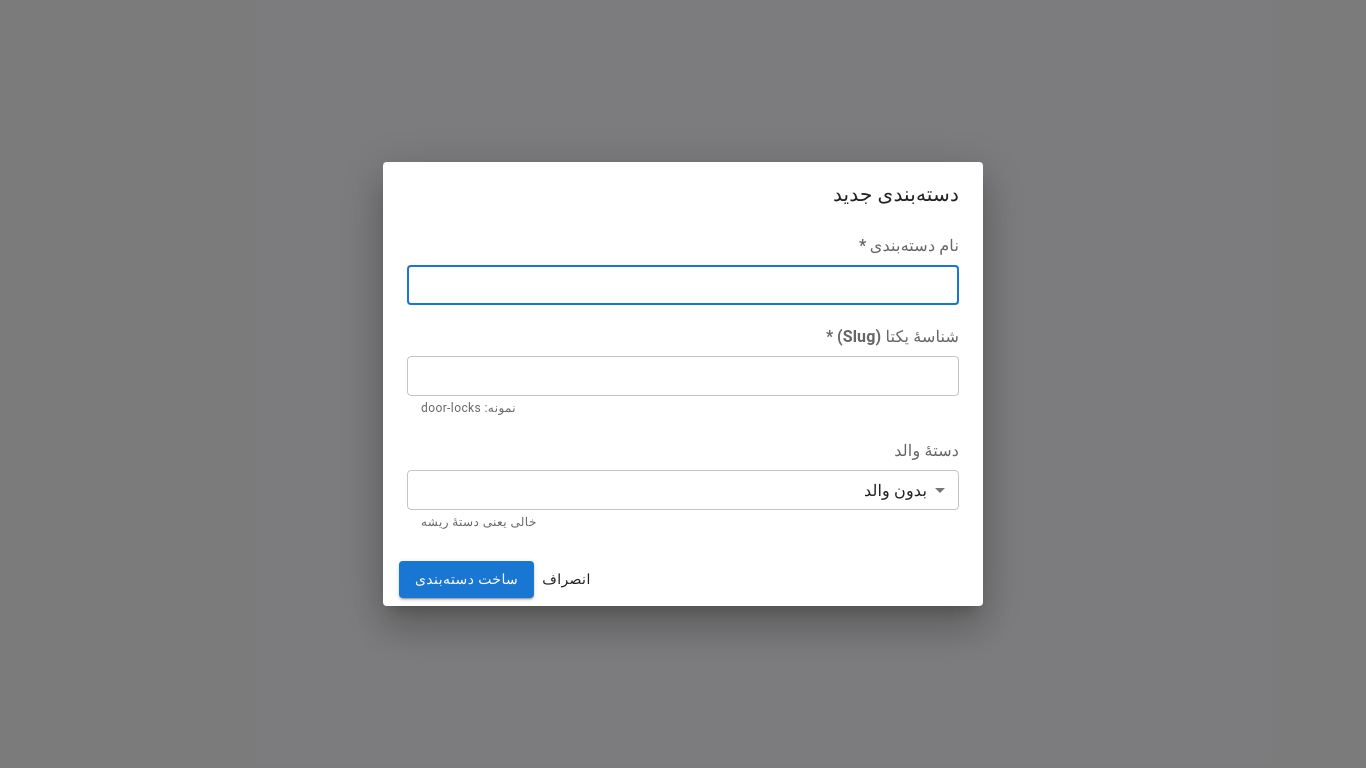
Test case: CategoryDialog › validates required fields and shows API errors
Click the button "ساخت دسته‌بندی" at [467, 579], box [399,561,534,598]
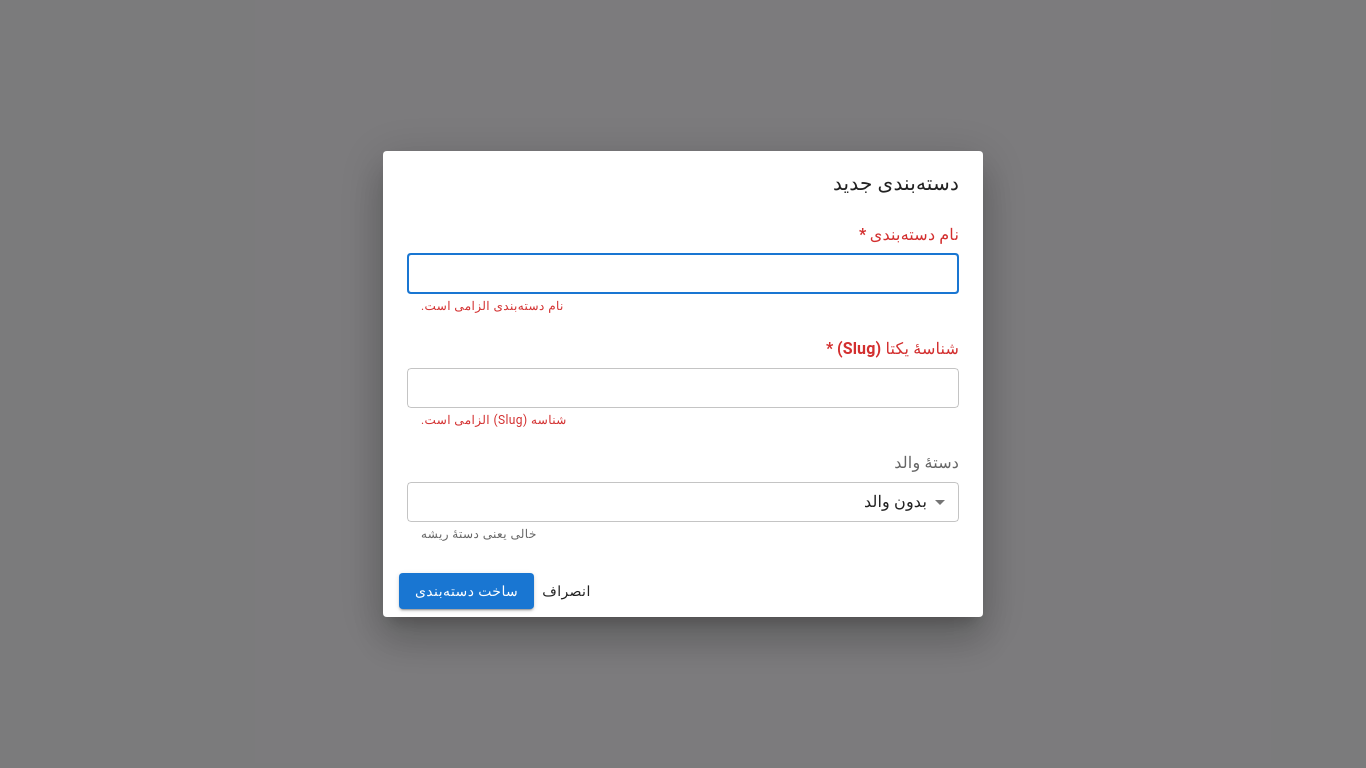
Expected: the text "نام دسته‌بندی الزامی است." is shown, [421,299,564,313]
Type "درب" into the field labelled "نام دسته‌بندی *" at [683, 274], box [407,254,959,294]
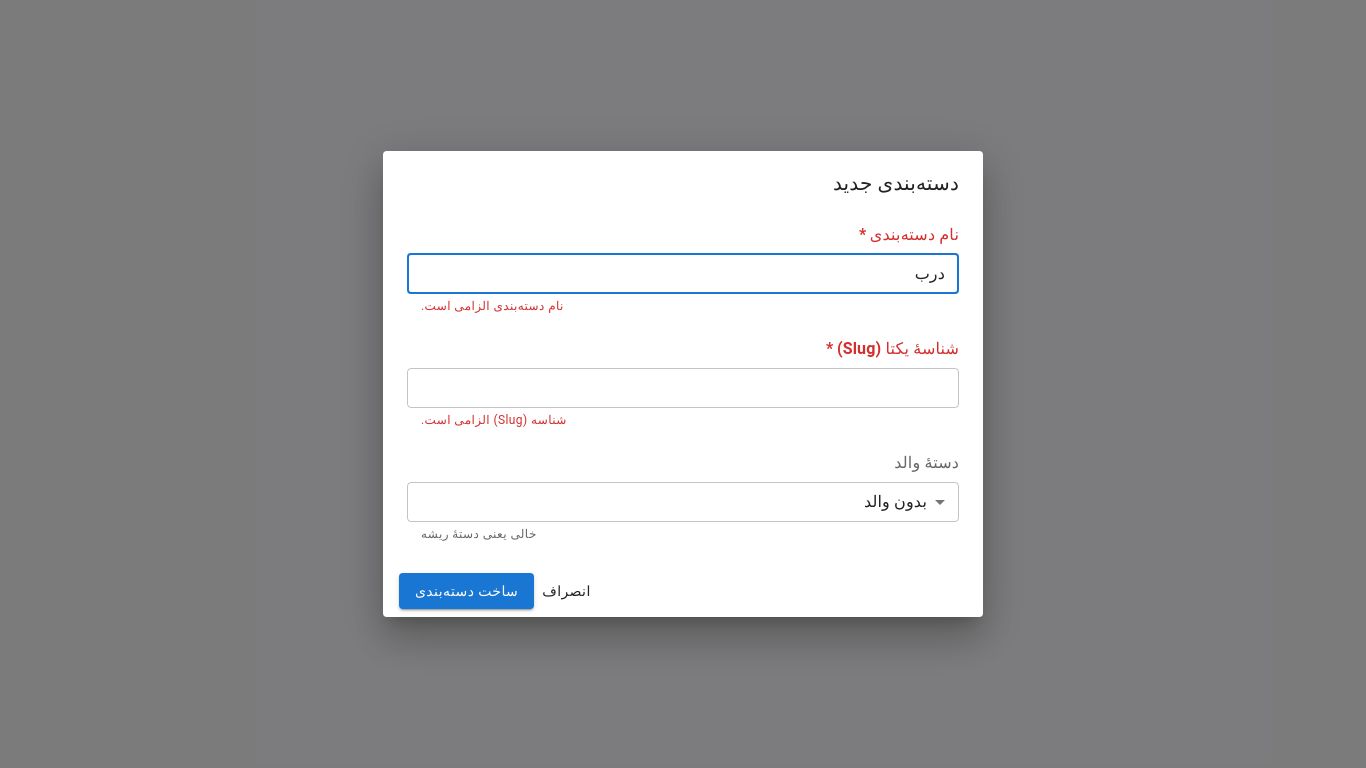
Type "door" into the field labelled "شناسهٔ یکتا (Slug) *" at [683, 388], box [407,368,959,408]
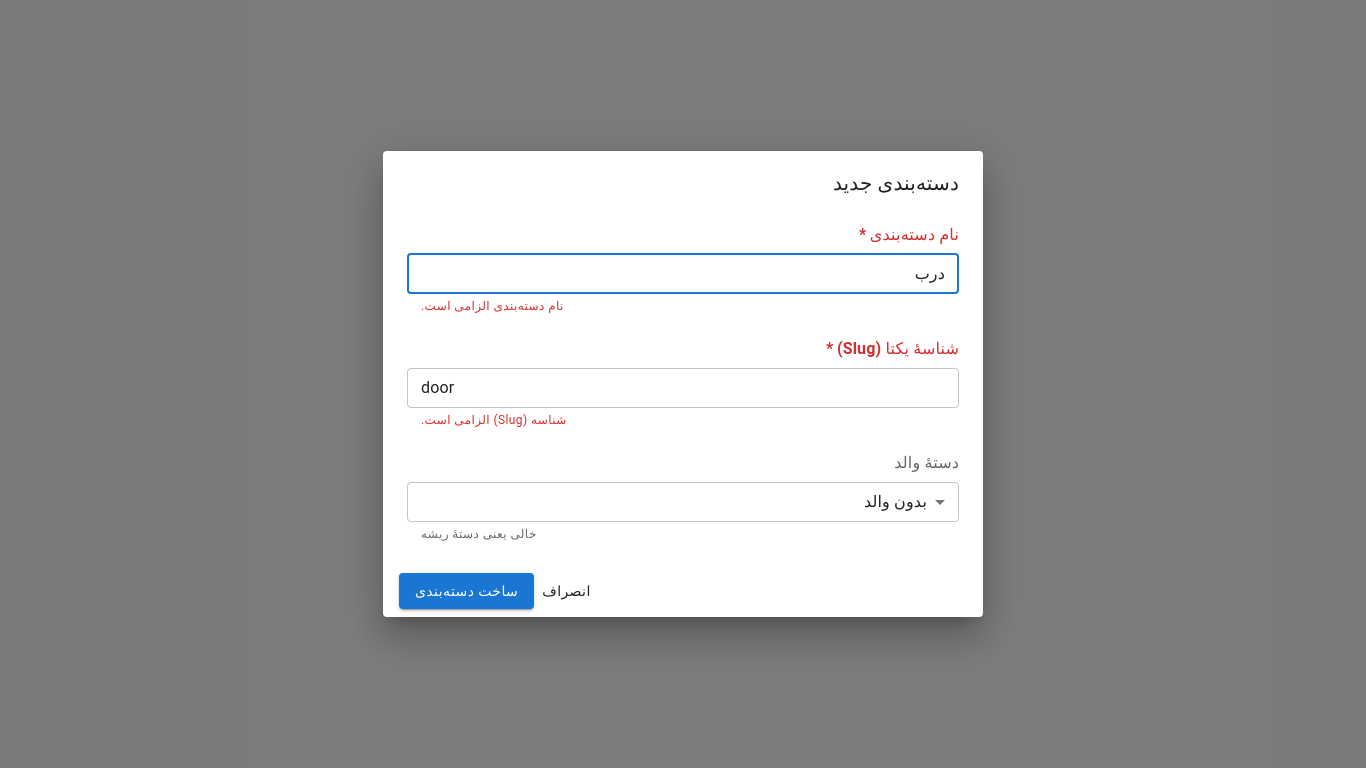
Click the button "ساخت دسته‌بندی" at [467, 591], box [399,573,534,609]
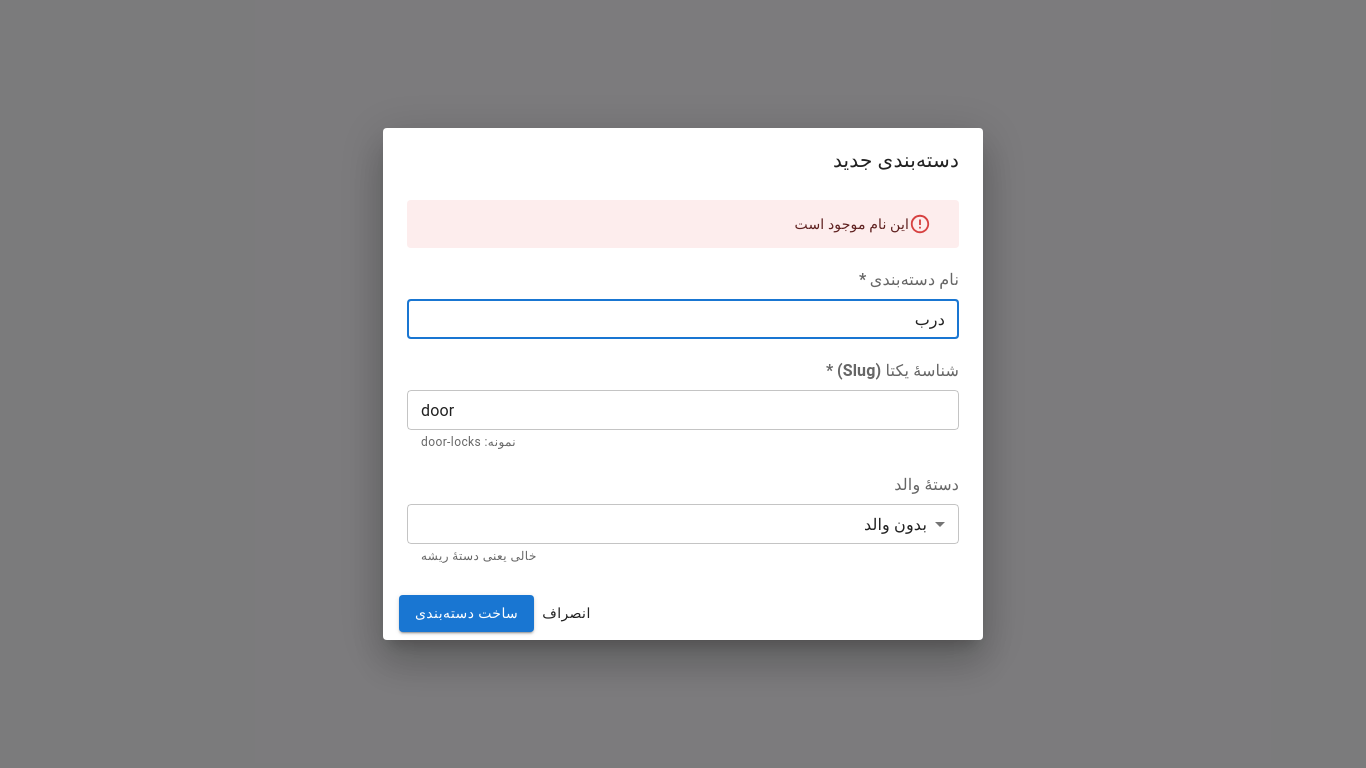
Expected: the text "این نام موجود است" is shown, [794,216,909,232]
